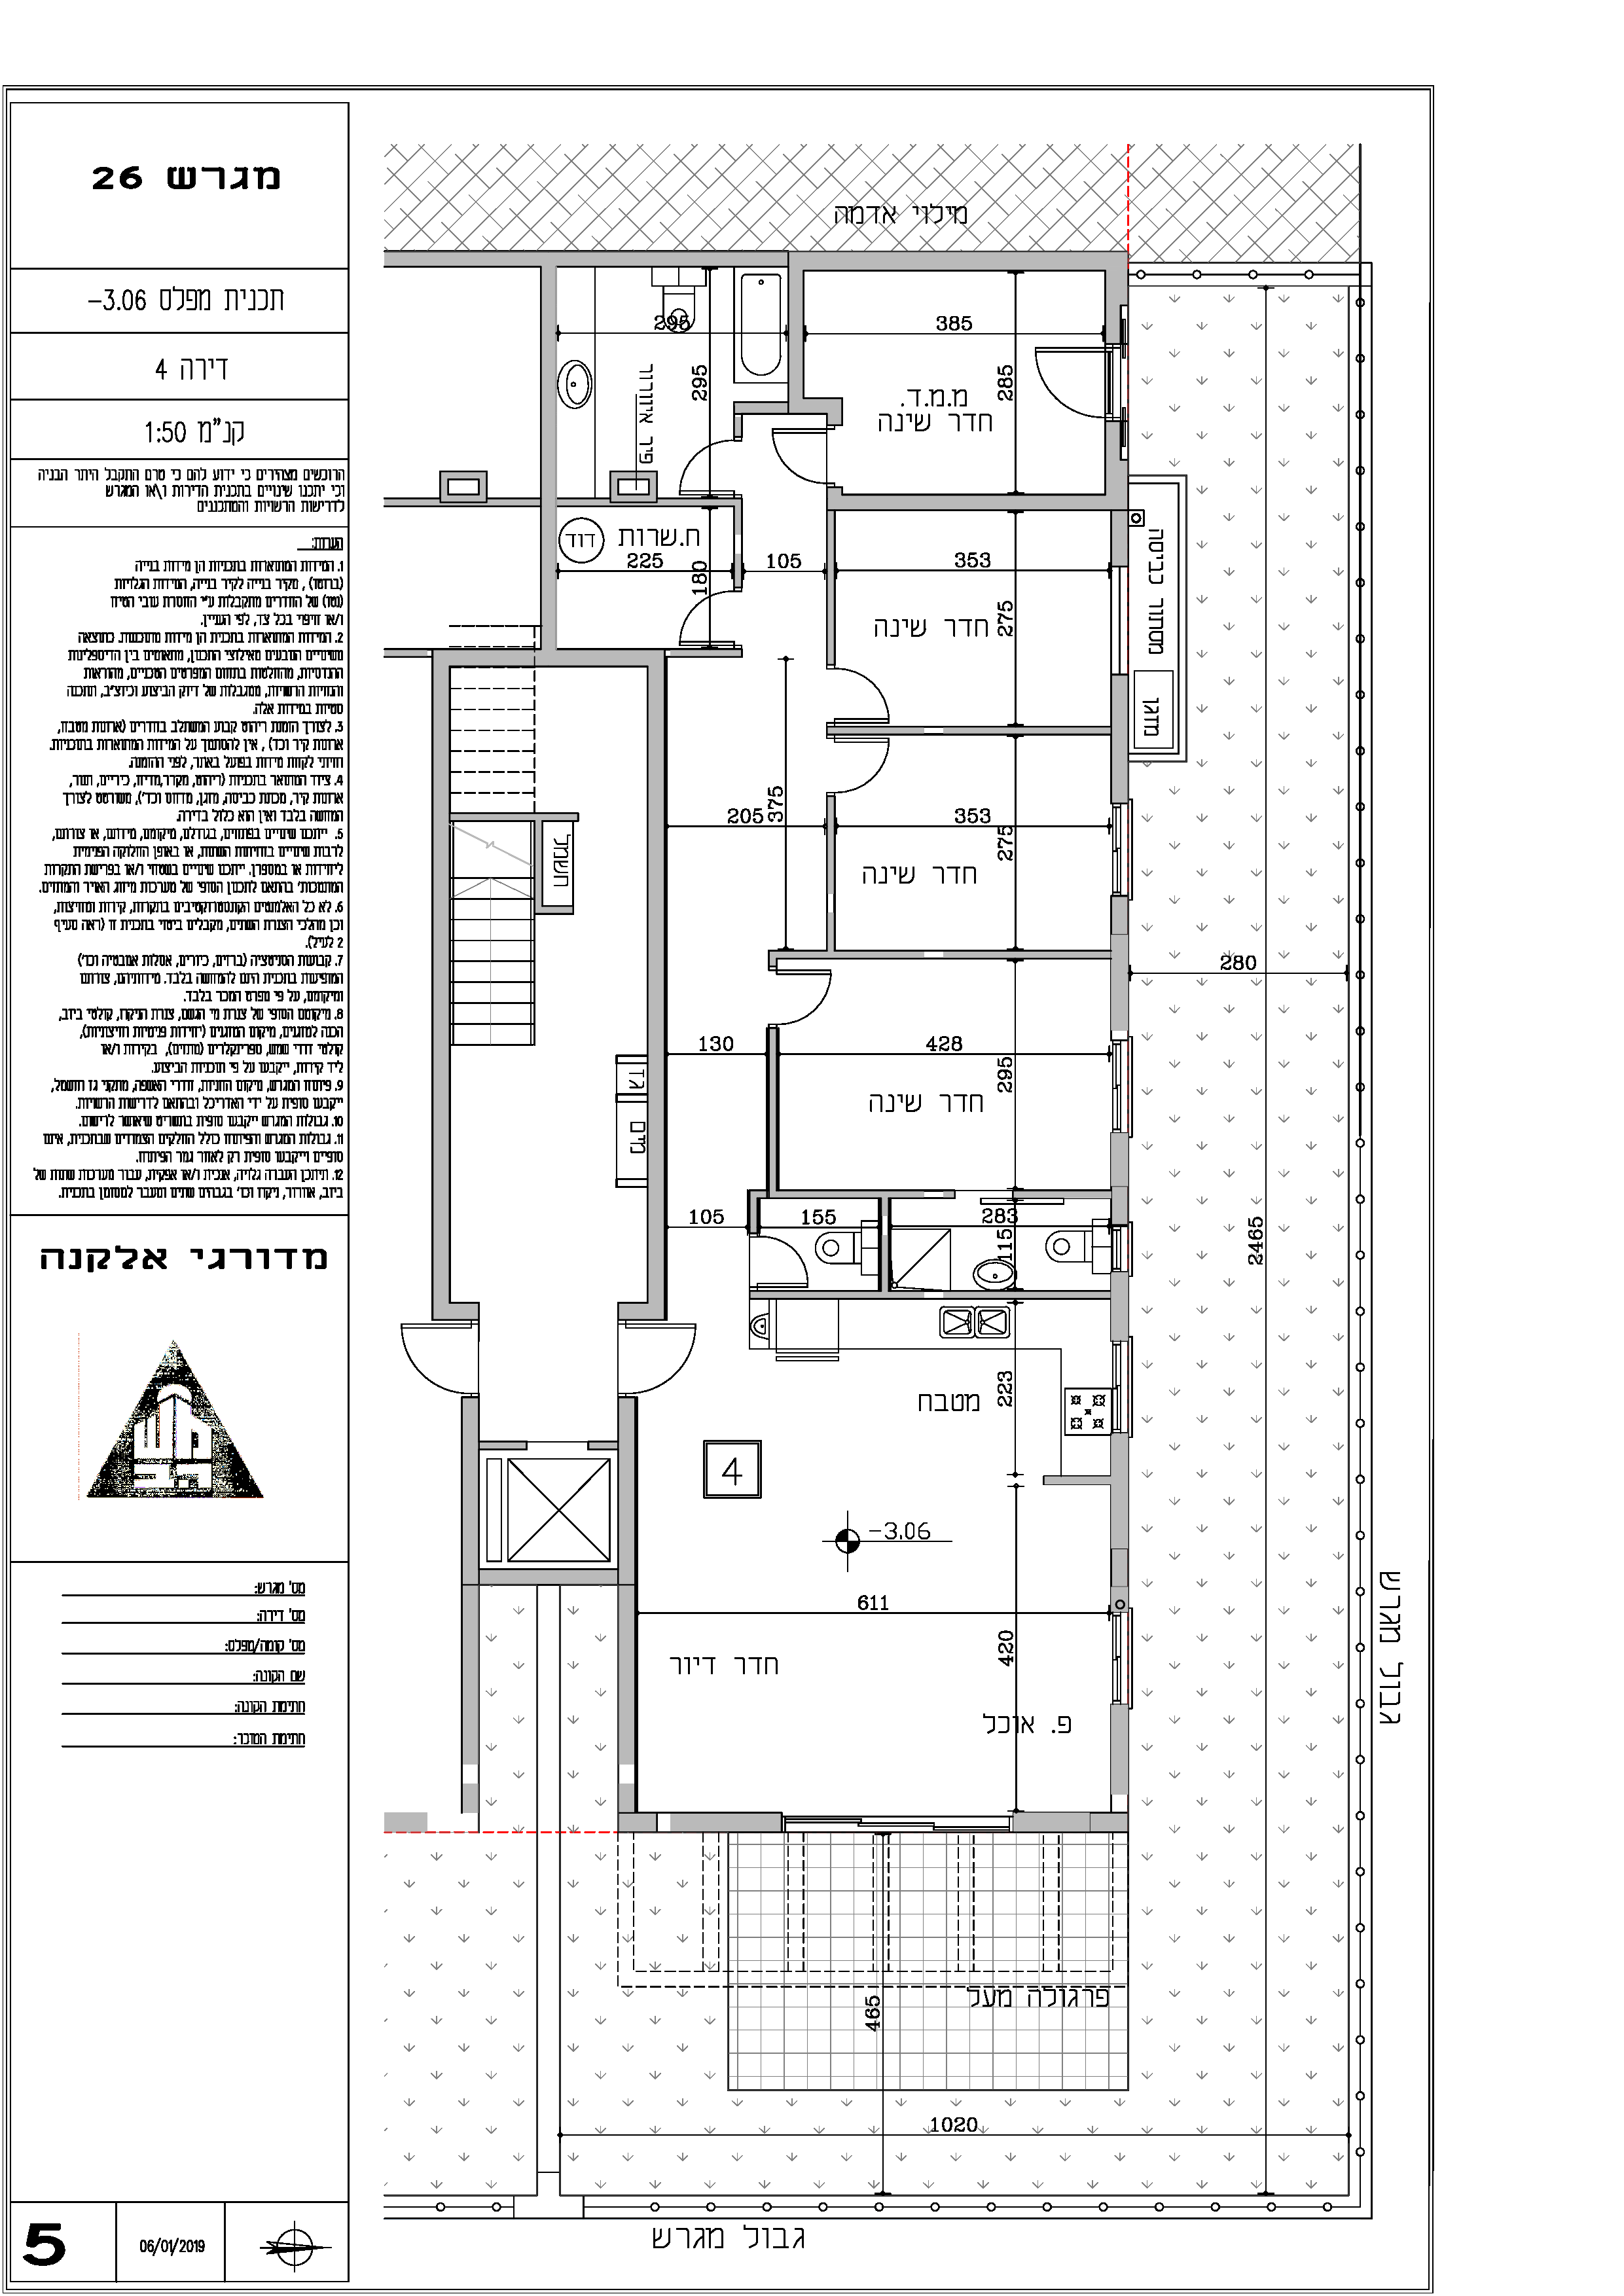door: (1021, 337, 1095, 425), (636, 1321, 708, 1397), (782, 964, 856, 1035), (392, 1321, 460, 1395), (837, 740, 896, 805), (765, 422, 823, 488), (677, 432, 731, 495), (844, 668, 900, 724), (677, 588, 733, 645), (763, 1235, 810, 1289)
md: (380, 137, 1232, 2066)
rd: (14, 107, 366, 1823)
wall: (434, 653, 446, 1318), (652, 655, 663, 1319), (789, 251, 1123, 269), (388, 253, 780, 265), (543, 271, 552, 653), (833, 497, 1120, 508), (464, 1398, 478, 1585), (620, 1398, 634, 1585), (620, 1586, 634, 1762), (464, 1586, 476, 1762), (673, 1813, 777, 1832), (789, 258, 801, 406), (1111, 1708, 1128, 1795), (1113, 1440, 1127, 1546), (480, 1570, 615, 1581), (540, 650, 654, 662), (1113, 936, 1127, 1028), (1018, 1813, 1084, 1830), (770, 1029, 777, 1196), (1114, 678, 1123, 796), (1107, 251, 1118, 337), (768, 952, 921, 957), (828, 727, 921, 733), (828, 798, 833, 889), (828, 913, 833, 957)
window: (1102, 799, 1139, 901), (1104, 1036, 1139, 1138), (1106, 1335, 1139, 1437), (1107, 1609, 1137, 1706), (1104, 1221, 1137, 1275)
